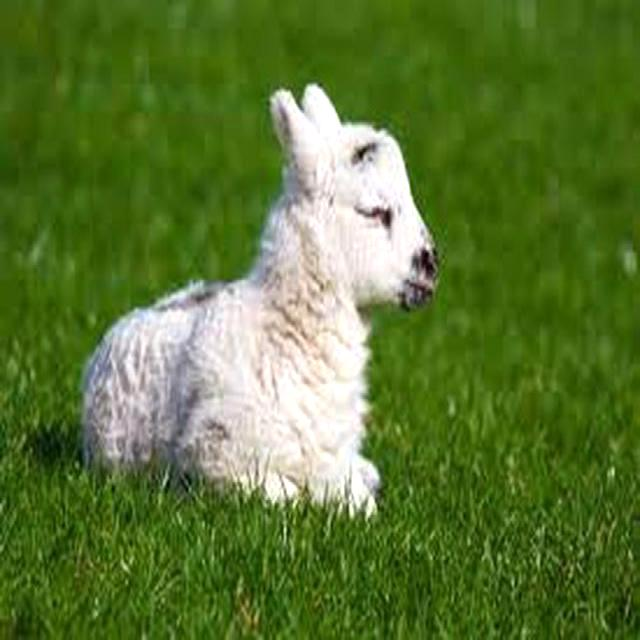sheep: (82, 90, 438, 516)
